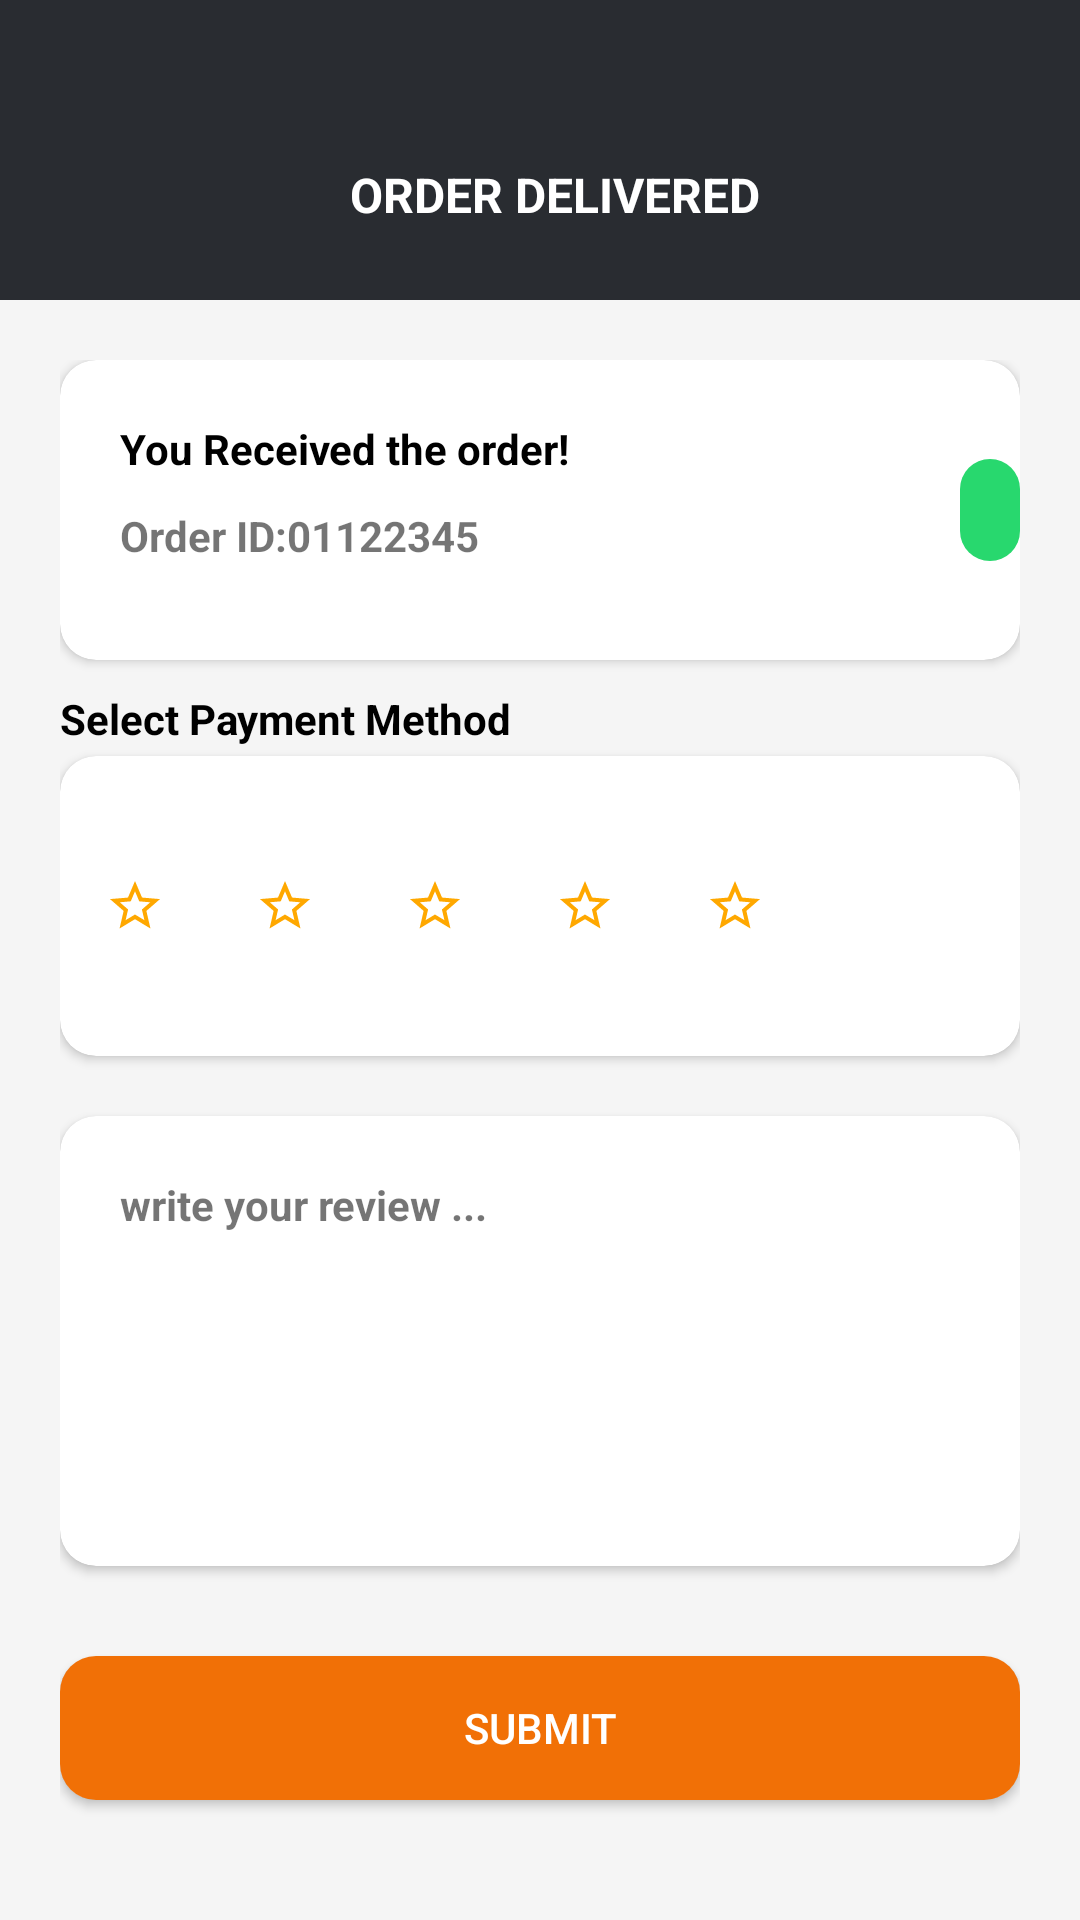

Screen size 1080w x 1920h. Icon name, then its center in pixels as (x,y):
star: (135,905), (285,905), (435,905), (585,905), (735,905)
